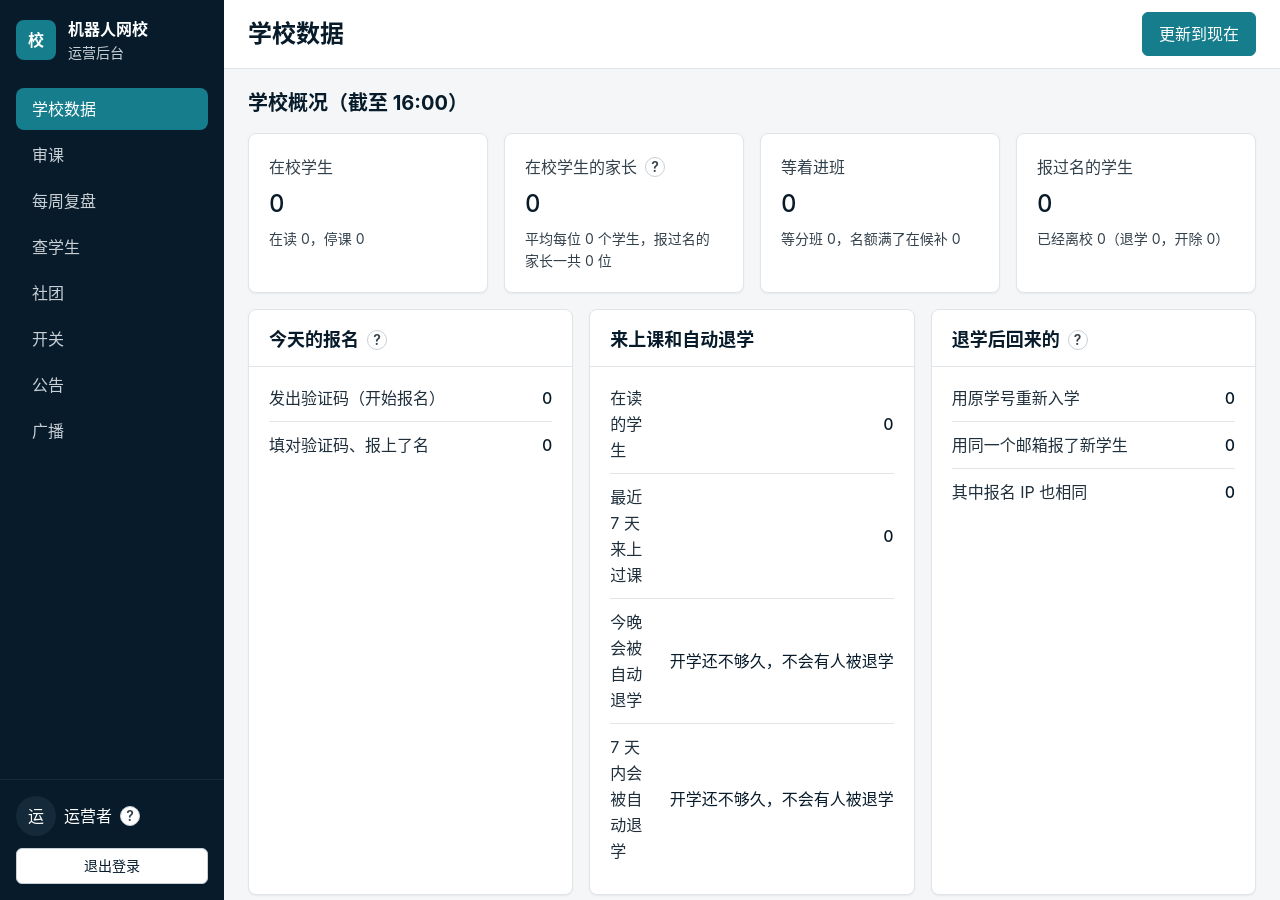
Test: the layout › says it is logging out while it does
This screenshot has width=1280, height=900.
Click the button "退出登录".
click(112, 866)  # box [16,848,208,884]
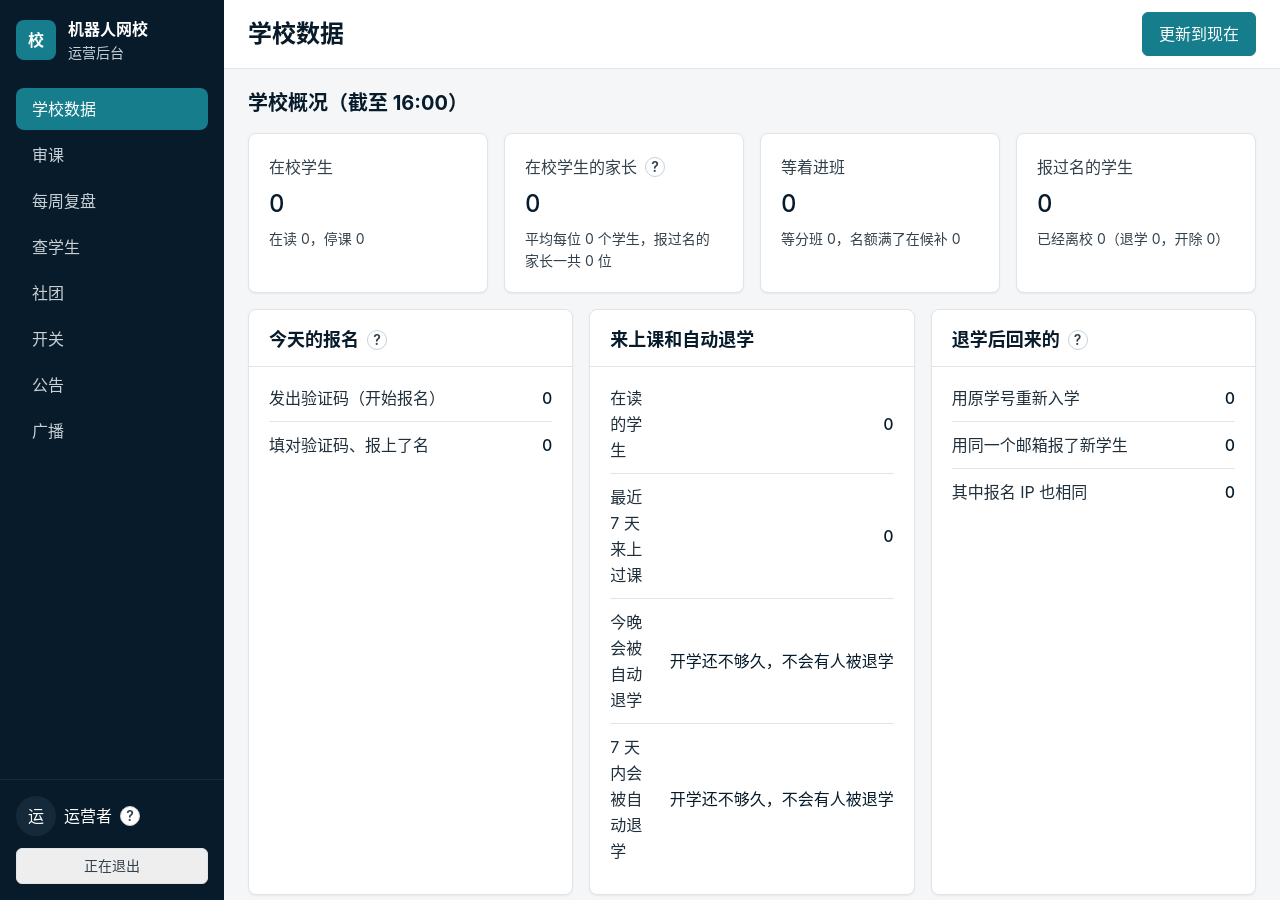
Now the button "正在退出" is disabled, box [16,848,208,884]
